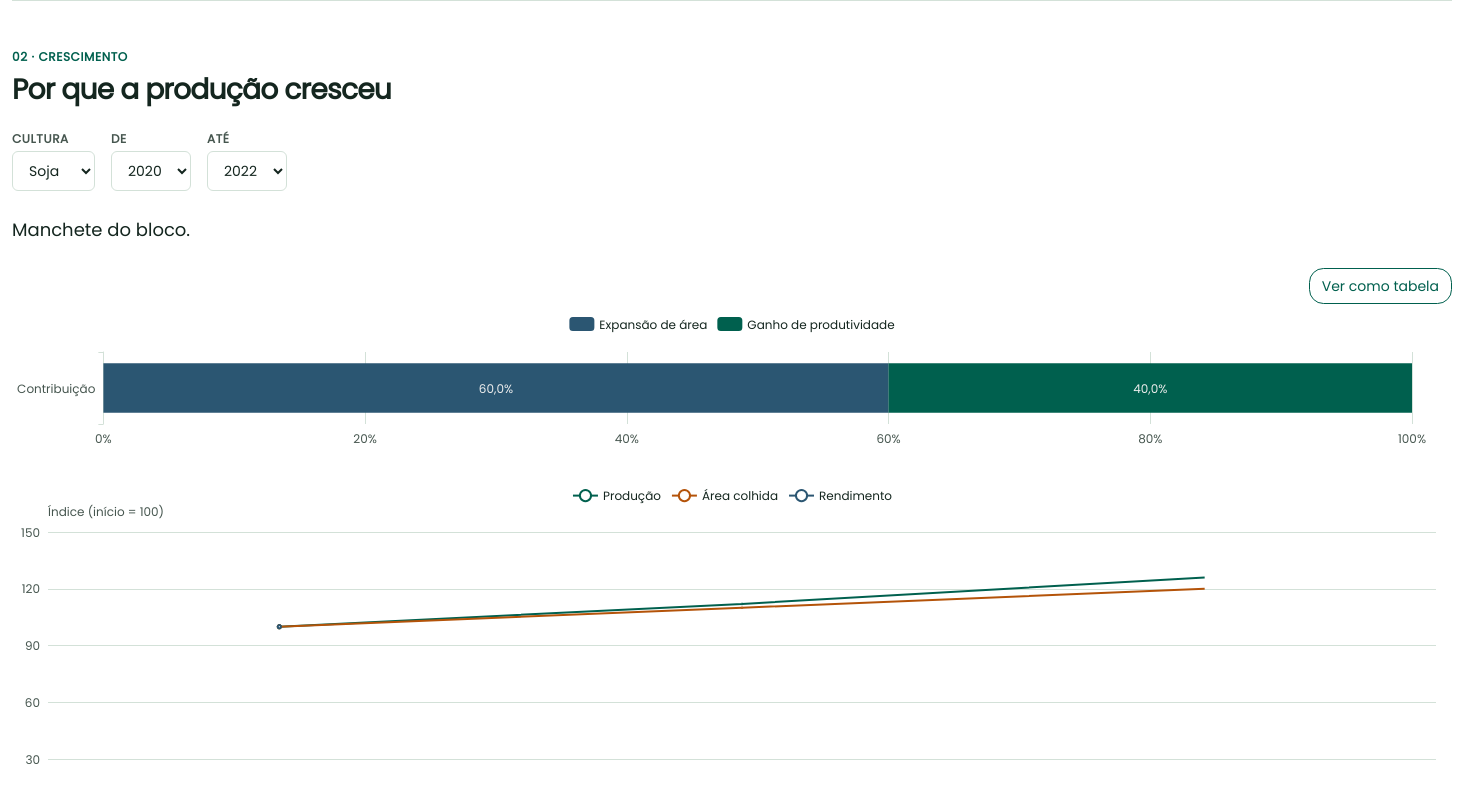
Test: BlocoCrescimento › tabela alinha a perda por ano e mostra '–' para nulos
The image size is (1464, 810).
Expected: the text "Manchete do bloco." is shown, top-left (12, 217), bottom-right (190, 242)
Click the button "Ver como tabela".
click(1380, 286)  # box top-left (1309, 268), bottom-right (1452, 304)
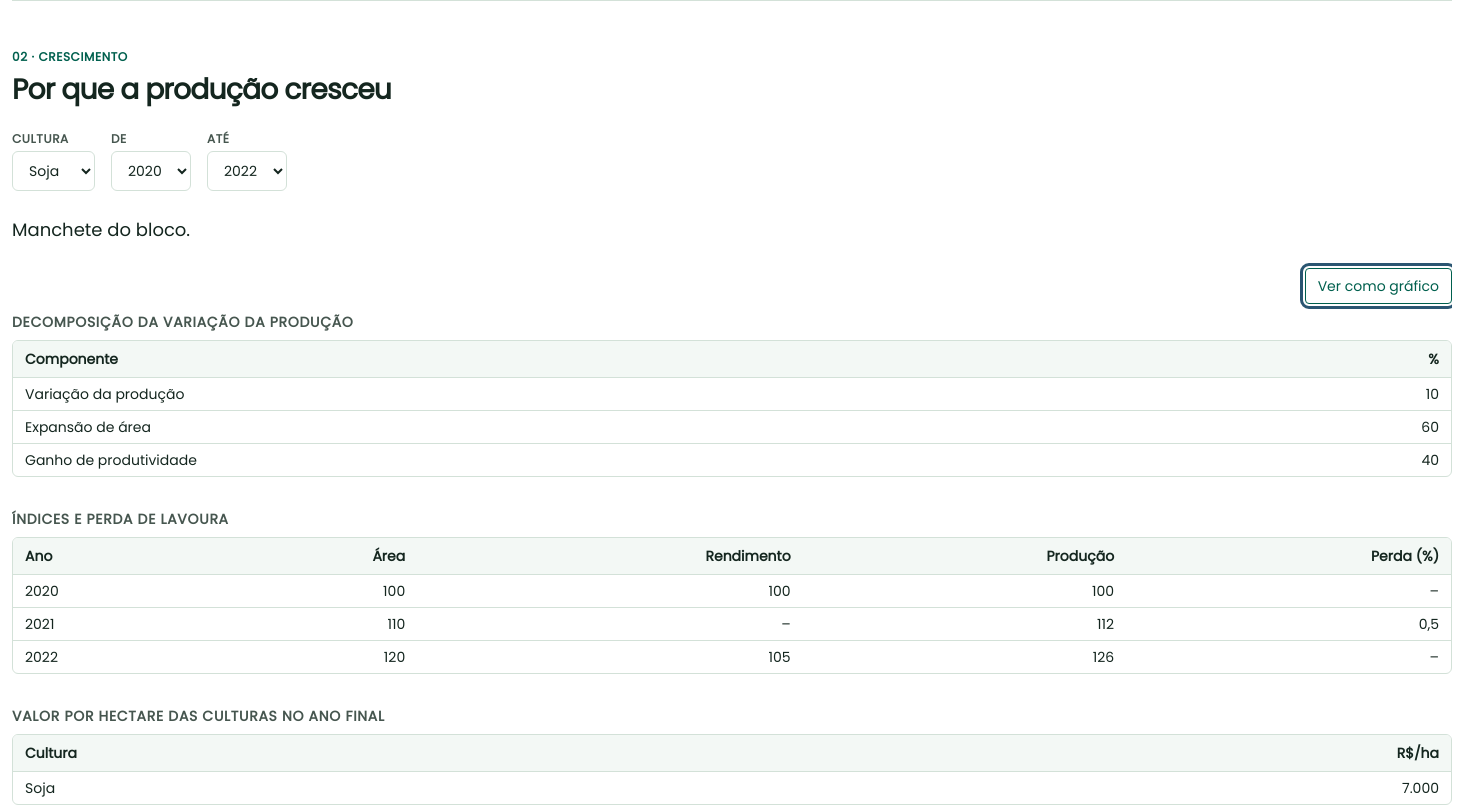
Expected: the row "2020 100 100 100 –" is shown, top-left (13, 575), bottom-right (1451, 608)
Expected: the row "2021 110 – 112 0,5" is shown, top-left (13, 608), bottom-right (1451, 641)
